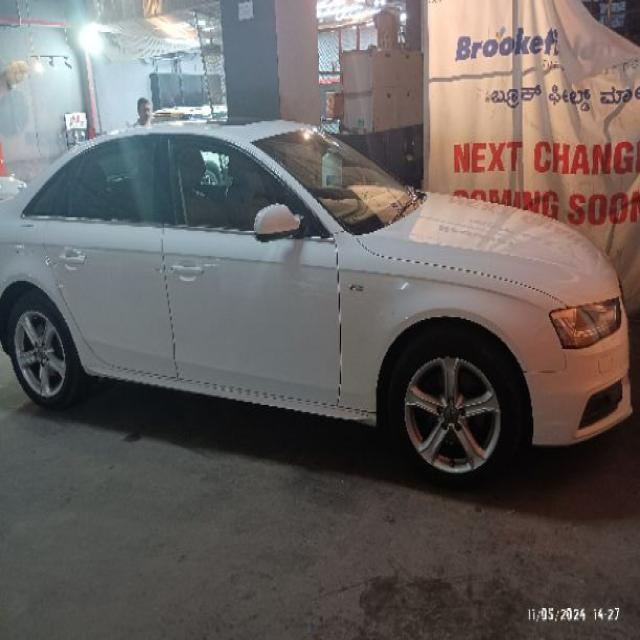license_plate: (0, 116, 633, 484)
